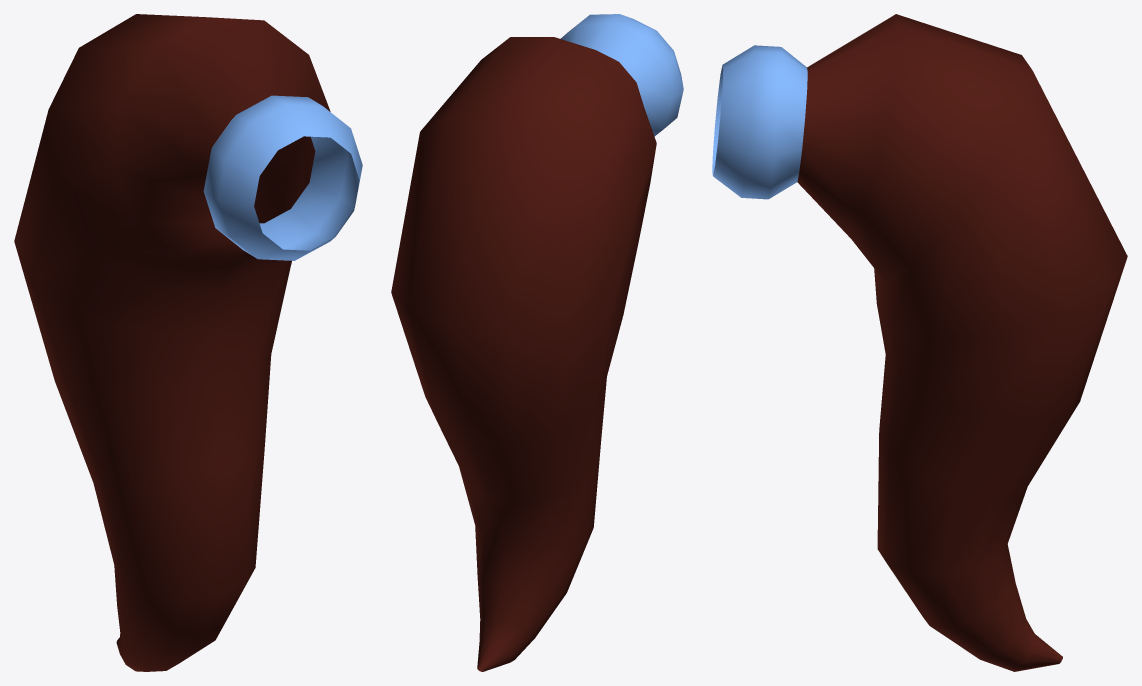
Rendered from hair_ponytail.glb.
3 views of the same model, side by side, from view 1: azimuth 30°, elevation 25°; view 2: azimuth 150°, elevation 25°; view 3: azimuth 270°, elevation 25° (orthographic). The views are drawn at different scales.
Visible parts, largest first — view 1: hairPonytail; view 2: hairPonytail; view 3: hairPonytail.
Boxes of the visible parts, x1,y1,x2,y2 form: hairPonytail: (14, 14, 362, 671); hairPonytail: (391, 14, 683, 671); hairPonytail: (712, 14, 1127, 671).
Size of the model in its own units: 0.3265 by 0.8665 by 0.506.
